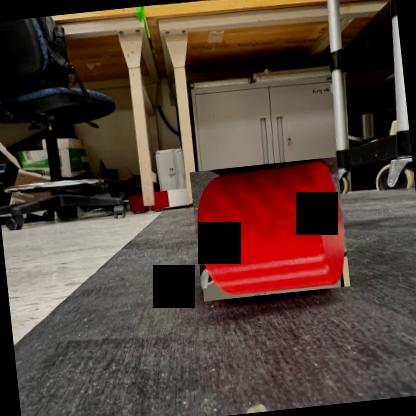red cylinder: (189, 156, 350, 301)
